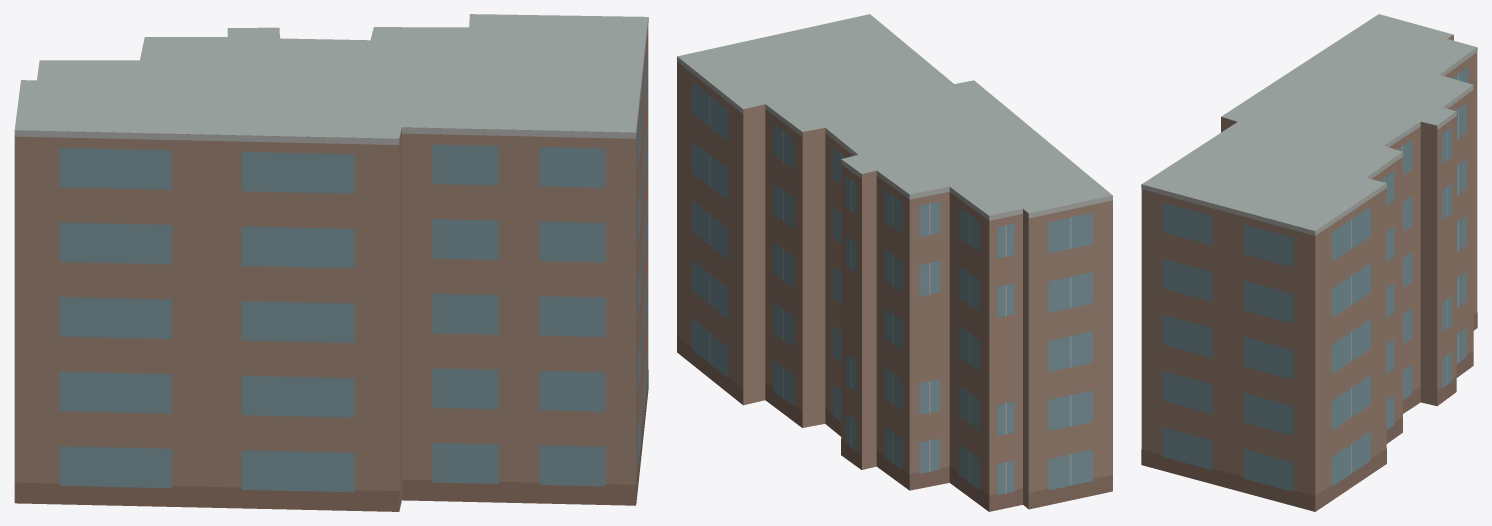
Rendered from survey-upis-32947190.glb.
The picture shows the model from 3 angles, left to right: view 1: azimuth 30°, elevation 25°; view 2: azimuth 150°, elevation 25°; view 3: azimuth 270°, elevation 25°; orthographic projection. The views are drawn at different scales.
Visible parts, largest first — view 1: survey-upis-32947190.tmp; view 2: survey-upis-32947190.tmp; view 3: survey-upis-32947190.tmp.
Boxes of the visible parts, x1,y1,x2,y2 form: survey-upis-32947190.tmp: [14, 14, 648, 511]; survey-upis-32947190.tmp: [677, 14, 1112, 511]; survey-upis-32947190.tmp: [1141, 14, 1477, 511].
Bounding box in the file's own units: 23.9 × 14.4 × 15.62.
